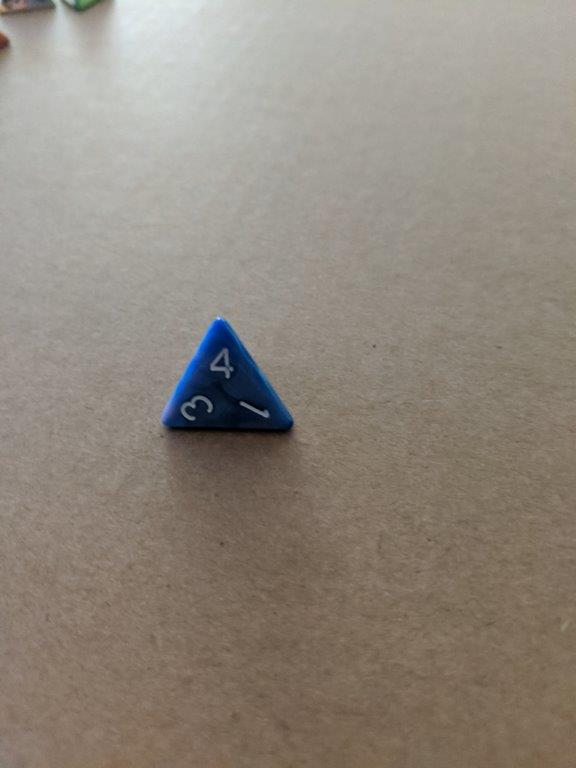d4-4: (159, 318, 297, 439)
